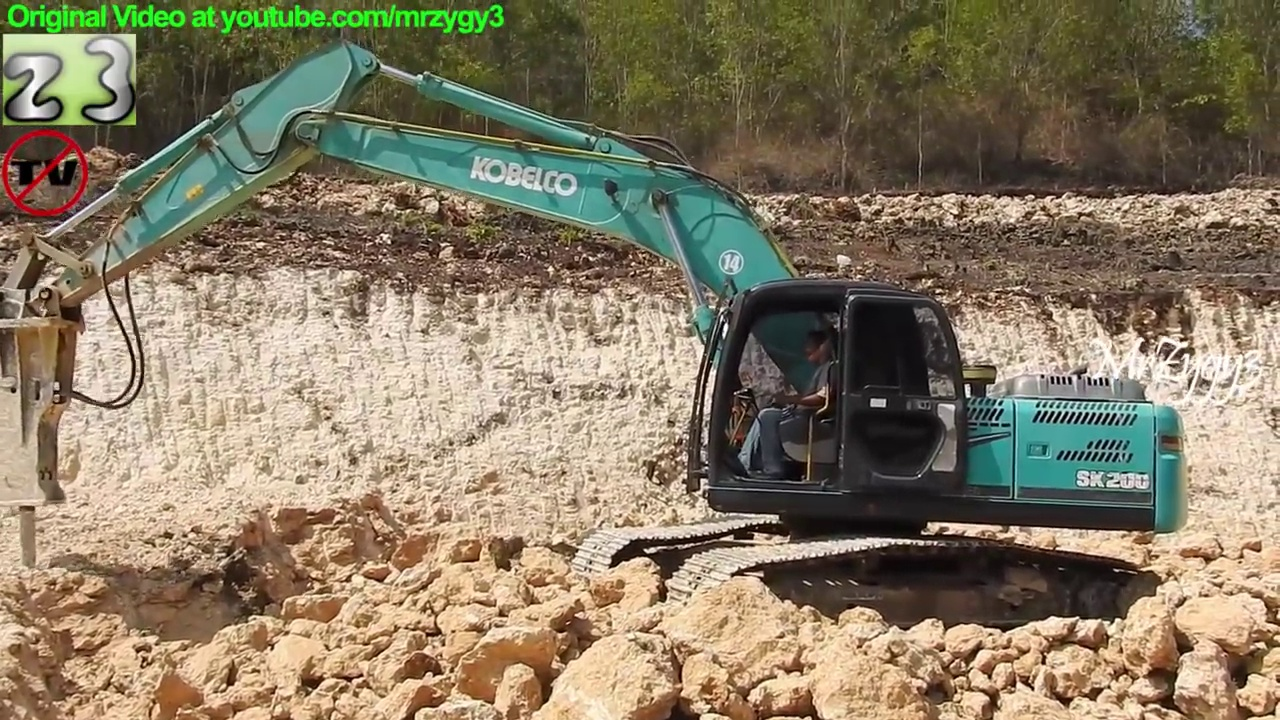excavator breaker: (1, 32, 1191, 643)
